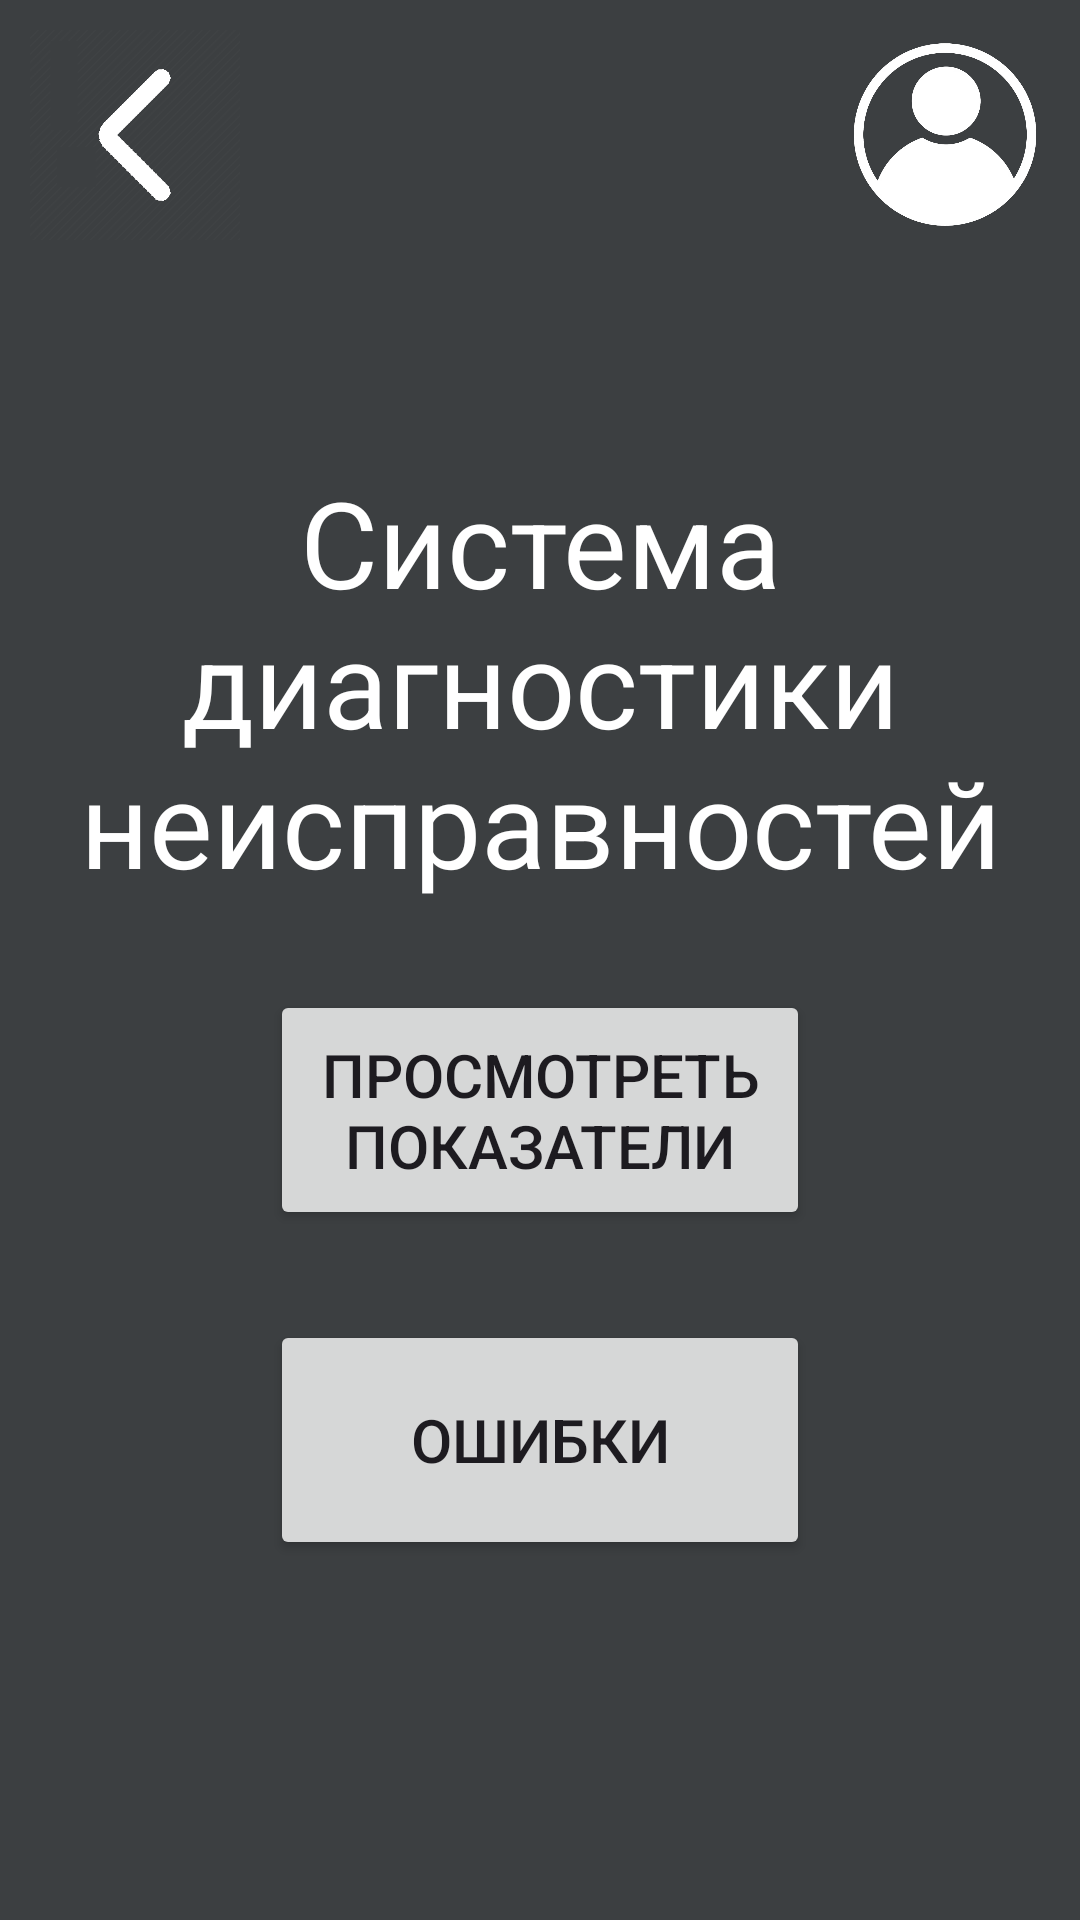

Locate icon controls on the screen. Image size 1080px x 1920px, boxes as [x1=x1, y1=y1, x2=x2, y2=y2].
arrow: [x1=98, y1=69, x2=171, y2=201]
profile: [x1=854, y1=43, x2=1036, y2=226]
